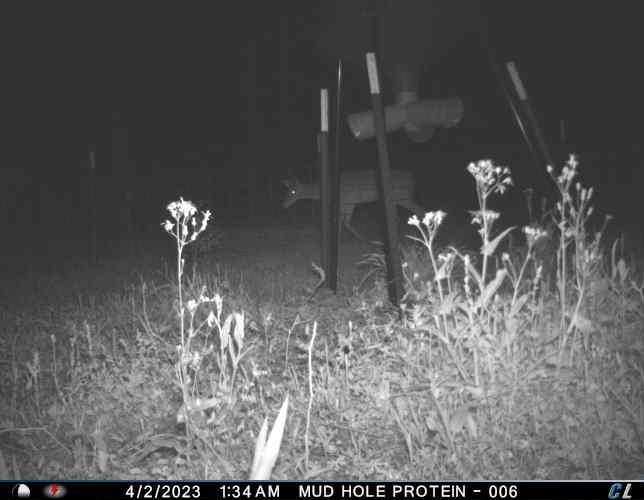Deer: (280, 166, 430, 251)
